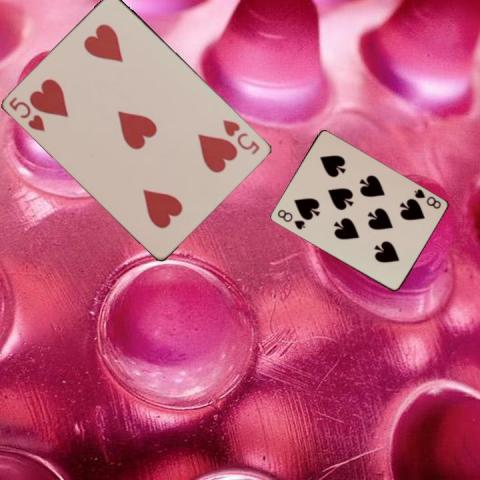5h: (220, 116, 262, 156), (6, 94, 47, 133)
8s: (274, 206, 307, 230), (411, 186, 442, 211)
